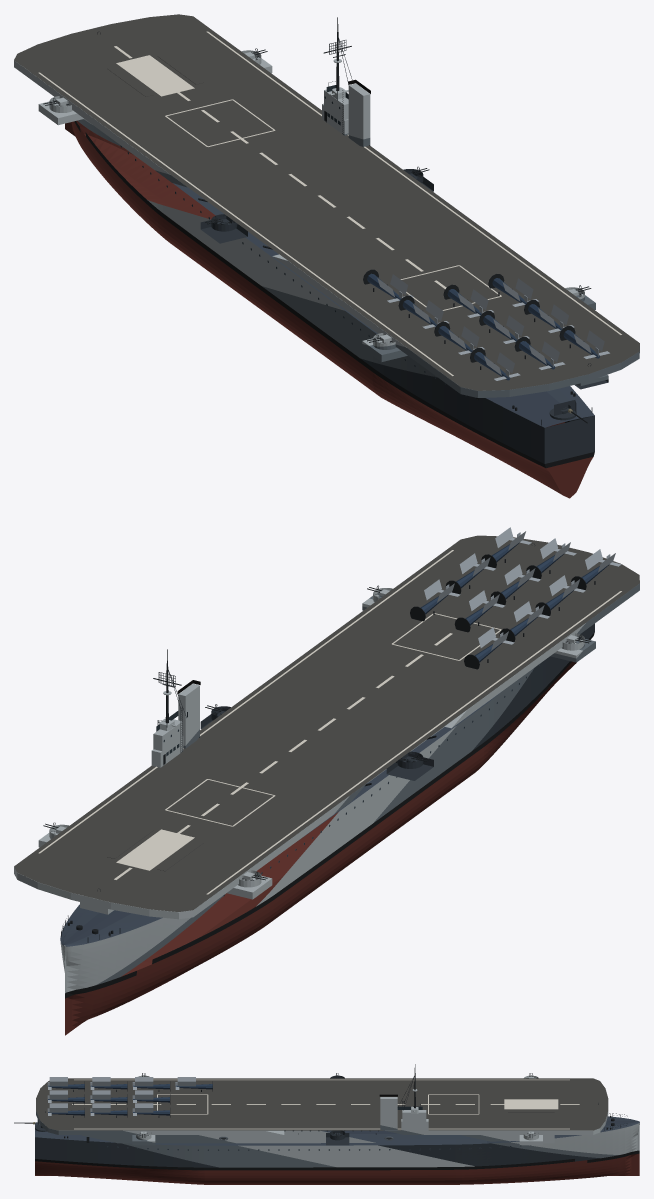
Rendered from casablanca_m22.glb.
3 renders of one model, top to bottom at view 1: azimuth 30°, elevation 25°; view 2: azimuth 150°, elevation 25°; view 3: azimuth 270°, elevation 25°, orthographic. The views are drawn at different scales.
Visible parts, largest first — view 1: Hull, Park1, Park2, Park3, Park10, Park7, Park8, Park4, Park5, Park9, Park6; view 2: Hull, Park9, Park10, Park8; view 3: Hull, Park9, Park8, Park5, Park6, Park7, Park2, Park3, Park4, Park10, Park1.
Boxes of the visible parts, x1,y1,x2,y2 form: Hull: [14, 14, 639, 498]; Park1: [470, 348, 520, 380]; Park2: [514, 337, 565, 369]; Park3: [559, 326, 609, 358]; Park10: [363, 269, 413, 302]; Park7: [398, 295, 448, 328]; Park8: [443, 284, 493, 317]; Park4: [434, 321, 484, 354]; Park5: [479, 311, 529, 343]; Park9: [488, 274, 538, 306]; Park6: [524, 300, 574, 332]; Hull: [14, 535, 639, 1035]; Park9: [410, 579, 460, 621]; Park10: [464, 627, 514, 669]; Park8: [454, 590, 505, 632]; Hull: [35, 1064, 639, 1184]; Park9: [132, 1103, 170, 1117]; Park8: [132, 1090, 170, 1104]; Park5: [90, 1090, 127, 1104]; Park6: [90, 1103, 127, 1117]; Park7: [132, 1077, 170, 1091]; Park2: [47, 1090, 84, 1104]; Park3: [47, 1103, 84, 1117]; Park4: [90, 1077, 127, 1091]; Park10: [175, 1077, 212, 1091]; Park1: [47, 1077, 84, 1091].
Bounding box in the file's own units: 39.6 × 38.9 × 162.
